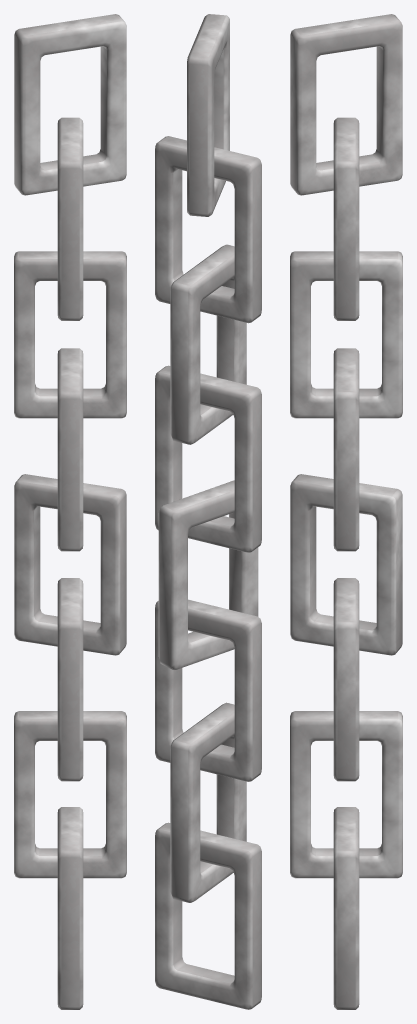
The model's file is Chain_Mesh02.fbx.
3 renders of one model, left to right at view 1: azimuth 90°, elevation 25°; view 2: azimuth 150°, elevation 25°; view 3: azimuth 270°, elevation 25°, orthographic.
Visible parts, largest first — view 1: Chain_Model08, Chain_Model04, Chain_Model06, Chain_Model02, Chain_Model03, Chain_Model07, Chain_Model05, Chain_Model01; view 2: Chain_Model01, Chain_Model07, Chain_Model05, Chain_Model03, Chain_Model04, Chain_Model06, Chain_Model02, Chain_Model08; view 3: Chain_Model08, Chain_Model04, Chain_Model06, Chain_Model02, Chain_Model03, Chain_Model07, Chain_Model05, Chain_Model01.
Boxes of the visible parts, left/top/right/bottom form: Chain_Model08: left=14, top=14, right=126, bottom=195; Chain_Model04: left=14, top=474, right=126, bottom=655; Chain_Model06: left=14, top=251, right=126, bottom=418; Chain_Model02: left=14, top=711, right=126, bottom=878; Chain_Model03: left=57, top=578, right=83, bottom=781; Chain_Model07: left=57, top=117, right=83, bottom=320; Chain_Model05: left=57, top=348, right=83, bottom=551; Chain_Model01: left=57, top=807, right=83, bottom=1009; Chain_Model01: left=155, top=822, right=261, bottom=1009; Chain_Model07: left=155, top=136, right=261, bottom=323; Chain_Model05: left=155, top=365, right=261, bottom=552; Chain_Model03: left=155, top=599, right=261, bottom=781; Chain_Model04: left=158, top=480, right=258, bottom=670; Chain_Model06: left=170, top=244, right=246, bottom=444; Chain_Model02: left=170, top=702, right=246, bottom=902; Chain_Model08: left=187, top=14, right=229, bottom=216; Chain_Model08: left=290, top=14, right=402, bottom=195; Chain_Model04: left=290, top=474, right=402, bottom=655; Chain_Model06: left=290, top=251, right=402, bottom=418; Chain_Model02: left=290, top=711, right=402, bottom=878; Chain_Model03: left=333, top=578, right=359, bottom=781; Chain_Model07: left=333, top=117, right=359, bottom=320; Chain_Model05: left=333, top=348, right=359, bottom=551; Chain_Model01: left=333, top=807, right=359, bottom=1009.
Bounding box in the file's own units: 2.03 × 19.1 × 2.03.
